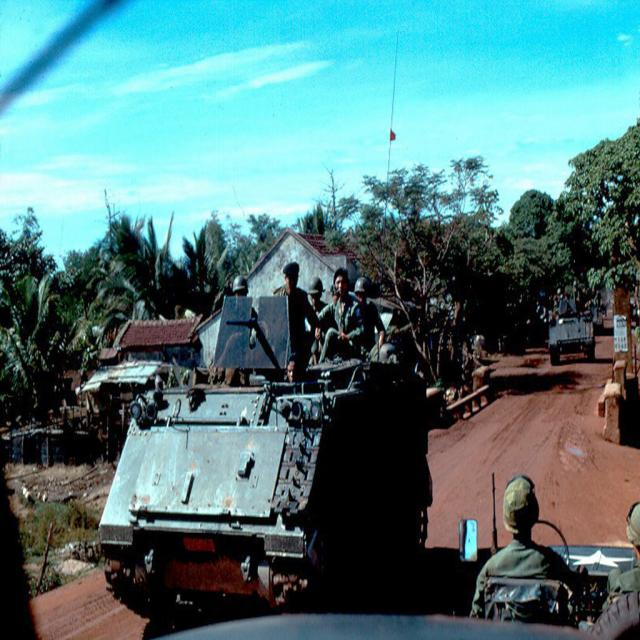tank: (97, 28, 434, 616)
